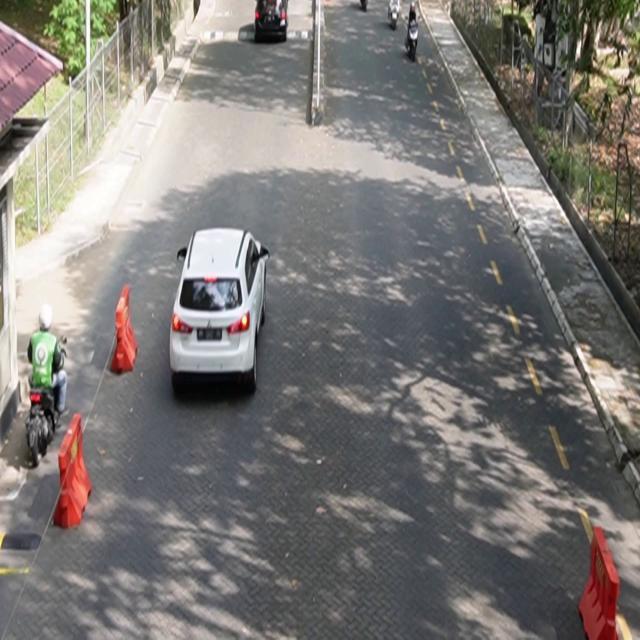car: (170, 227, 271, 394), (255, 1, 289, 43)
